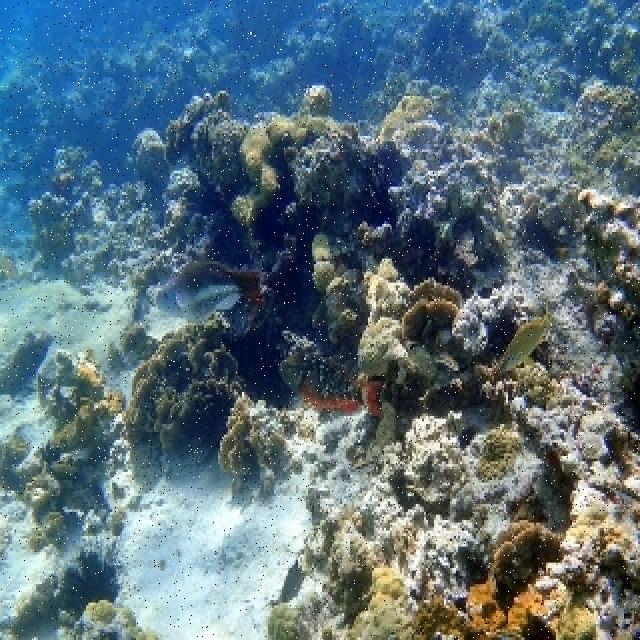fish: (155, 262, 260, 323), (492, 311, 549, 372), (293, 385, 362, 407)
reefs: (229, 83, 360, 226), (468, 523, 564, 637), (355, 256, 410, 374), (340, 566, 417, 637), (402, 278, 463, 350)
